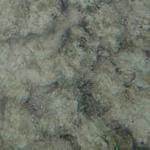dead: (1, 4, 144, 146)
